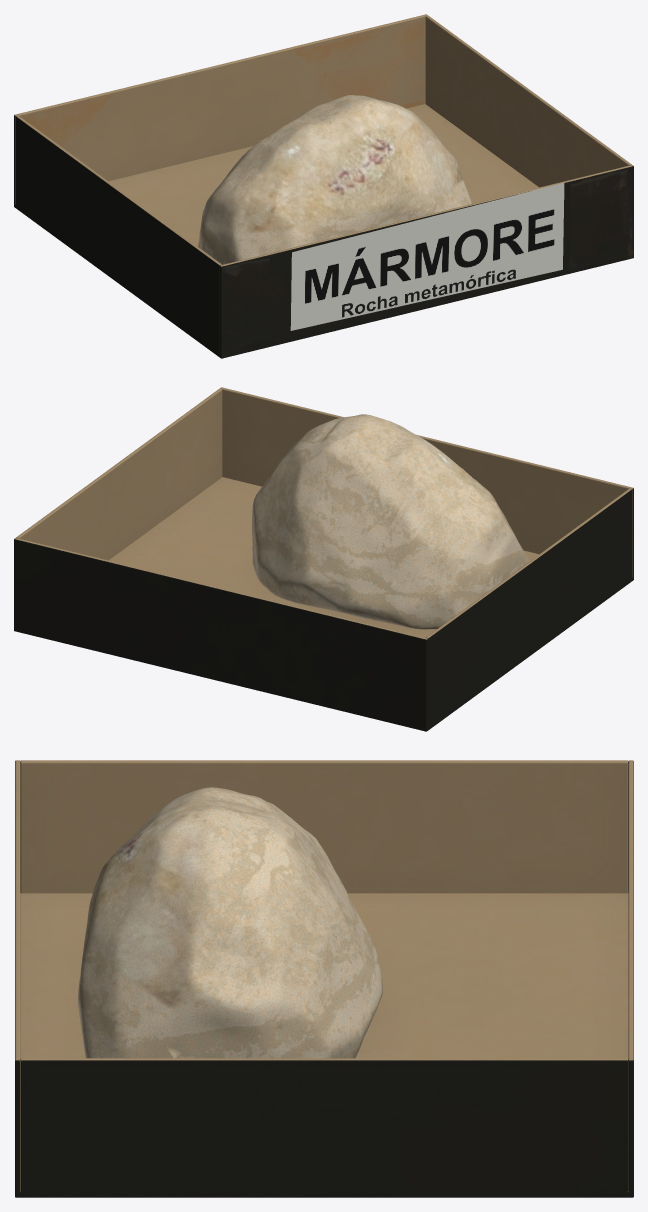
File: rocha_02_19_marmore.glb
3 views of the same model, one above another, from view 1: azimuth 30°, elevation 25°; view 2: azimuth 150°, elevation 25°; view 3: azimuth 270°, elevation 25° (orthographic). The views are drawn at different scales.
Parts seen in each view (by area): view 1: Bandeja_Fundo_mo19, Fragmento_01_mo19, Etiqueta_mo19, Bandeja_Esquerda_mo19, Bandeja_Frente_mo19, Bandeja_Direita_mo19, Bandeja_Base_mo19; view 2: Fragmento_01_mo19, Bandeja_Fundo_mo19, Bandeja_Esquerda_mo19, Bandeja_Frente_mo19, Bandeja_Direita_mo19, Bandeja_Base_mo19; view 3: Bandeja_Direita_mo19, Fragmento_01_mo19, Bandeja_Esquerda_mo19, Bandeja_Base_mo19, Bandeja_Fundo_mo19, Bandeja_Frente_mo19.
Part boxes in pixels (x1,y1,x2,y2): Bandeja_Fundo_mo19: [14, 14, 427, 204]; Fragmento_01_mo19: [198, 95, 471, 264]; Etiqueta_mo19: [290, 183, 564, 330]; Bandeja_Esquerda_mo19: [16, 115, 221, 356]; Bandeja_Frente_mo19: [219, 165, 633, 358]; Bandeja_Direita_mo19: [425, 15, 631, 187]; Bandeja_Base_mo19: [14, 104, 633, 358]; Fragmento_01_mo19: [252, 414, 529, 629]; Bandeja_Fundo_mo19: [14, 538, 428, 730]; Bandeja_Esquerda_mo19: [426, 488, 631, 729]; Bandeja_Frente_mo19: [220, 387, 633, 577]; Bandeja_Direita_mo19: [16, 388, 222, 560]; Bandeja_Base_mo19: [14, 477, 633, 731]; Bandeja_Direita_mo19: [20, 1058, 628, 1197]; Fragmento_01_mo19: [78, 787, 382, 1058]; Bandeja_Esquerda_mo19: [20, 760, 628, 893]; Bandeja_Base_mo19: [15, 893, 633, 1197]; Bandeja_Fundo_mo19: [628, 760, 633, 1196]; Bandeja_Frente_mo19: [15, 760, 20, 1195].
Size of the model in its own units: 0.191 by 0.0706 by 0.1665.
3 materials, 3 textured.
